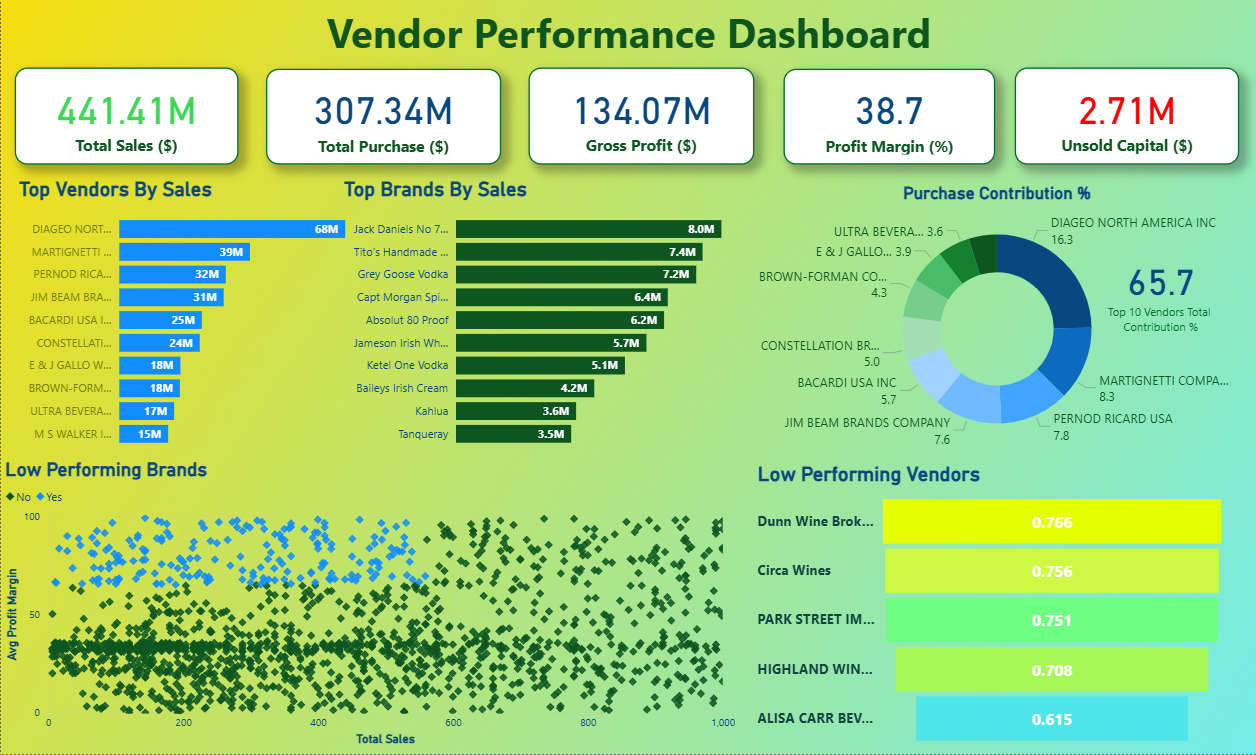

This screenshot's page, from the dashboard's own definition file:
{"tool":"powerbi","page":{"name":"Page 1","canvas":[1500,900],"ordinal":0},"visuals":[{"type":"card","fields":{"Values":["Sum(vendor_sales_summary.TotalPurchaseDollars)"]},"box":[315.8,82.4,280.9,114.6],"z":0},{"type":"card","fields":{"Values":["Sum(vendor_sales_summary.TotalSalesDollars)"]},"box":[16.8,81,266.9,116],"z":1000},{"type":"card","fields":{"Values":["Sum(vendor_sales_summary.GrossProfit)"]},"box":[630.2,81,269.7,116],"z":2000},{"type":"card","fields":{"Values":["Avg(vendor_sales_summary.ProfitMargin)"]},"box":[934.8,82.4,252.9,114.6],"z":3000},{"type":"card","fields":{"Values":["Sum(vendor_sales_summary.UnsoldCapital)"]},"box":[1210.1,81,268.3,116],"z":4000},{"type":"textbox","box":[0,0,1500,83],"z":5000},{"type":"donutChart","title":"Purchase Contribution % ","fields":{"Category":["PurchaseContribution.VendorName"],"Y":["Sum(PurchaseContribution.PurchaseContribution%)"]},"box":[902.8,218.3,571.8,324],"z":6000},{"type":"card","fields":{"Values":["Sum(PurchaseContribution.PurchaseContribution%)"]},"box":[1291.6,223.2,188,233.9],"z":7000},{"type":"barChart","title":"Top Vendors By Sales","fields":{"Category":["vendor_sales_summary.VendorName"],"Y":["Sum(vendor_sales_summary.TotalSalesDollars)"]},"box":[16.8,212.5,447.9,333.2],"z":8000},{"type":"barChart","title":"Top Brands By Sales","fields":{"Category":["vendor_sales_summary.Description"],"Y":["Sum(vendor_sales_summary.TotalSalesDollars)"]},"box":[405.1,212.5,502.9,333.2],"z":9000},{"type":"funnel","title":"Low Performing Vendors","fields":{"Category":["LowTurnoverVendor.VendorName"],"Y":["Avg(LowTurnoverVendor.AvgStockTurnOver)"]},"box":[898.8,551.8,568.6,348.5],"z":10000},{"type":"scatterChart","title":"Low Performing Brands","fields":{"X":["Sum(BrandPerformance.TotalSales)"],"Y":["Sum(BrandPerformance.AvgProfitMargin)"],"Series":["BrandPerformance.TargetBrand"],"Category":["BrandPerformance.Description"]},"box":[0,545.7,882,348.5],"z":11000}]}

Visuals, with their boxes in screenshot pixels (x1, y1, x2, y2), scaled from the page's 1500x900 canvas onto the 1256x755 screenshot:
card - Sum(vendor_sales_summary.TotalPurchaseDollars): {"left": 264, "top": 69, "right": 500, "bottom": 165}
card - Sum(vendor_sales_summary.TotalSalesDollars): {"left": 14, "top": 68, "right": 238, "bottom": 165}
card - Sum(vendor_sales_summary.GrossProfit): {"left": 528, "top": 68, "right": 754, "bottom": 165}
card - Avg(vendor_sales_summary.ProfitMargin): {"left": 783, "top": 69, "right": 995, "bottom": 165}
card - Sum(vendor_sales_summary.UnsoldCapital): {"left": 1013, "top": 68, "right": 1238, "bottom": 165}
textbox: {"left": 0, "top": 0, "right": 1255, "bottom": 70}
"Purchase Contribution % " donutChart: {"left": 756, "top": 183, "right": 1235, "bottom": 455}
card - Sum(PurchaseContribution.PurchaseContribution%): {"left": 1081, "top": 187, "right": 1239, "bottom": 383}
"Top Vendors By Sales" barChart: {"left": 14, "top": 178, "right": 389, "bottom": 458}
"Top Brands By Sales" barChart: {"left": 339, "top": 178, "right": 760, "bottom": 458}
"Low Performing Vendors" funnel: {"left": 753, "top": 463, "right": 1229, "bottom": 754}
"Low Performing Brands" scatterChart: {"left": 0, "top": 458, "right": 739, "bottom": 750}
